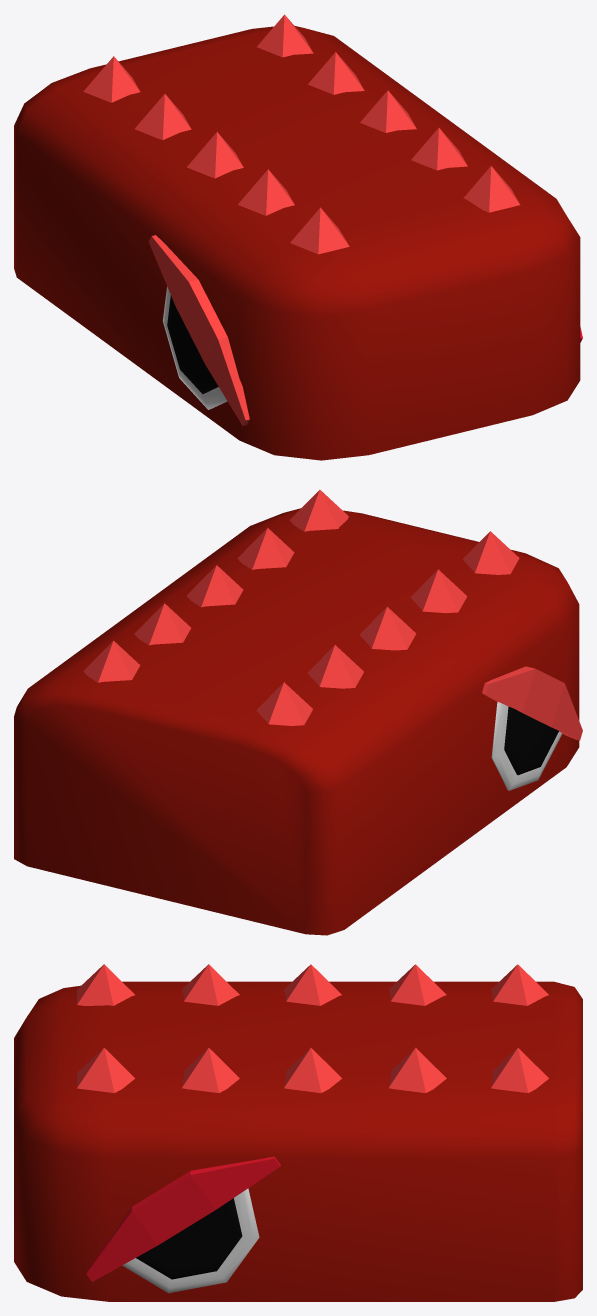
The model's file is UpperHalf.fbx.
3 renders of one model, top to bottom at view 1: azimuth 30°, elevation 25°; view 2: azimuth 150°, elevation 25°; view 3: azimuth 270°, elevation 25°, orthographic.
Parts seen in each view (by area): view 1: Cube.005, Cone.009, Cube.003, Cylinder.004, Cylinder.001; view 2: Cube.005, Cone.009, Cube.003, Cylinder.004, Cylinder.001; view 3: Cube.005, Cone.009, Cube.002, Cylinder.002, Cylinder.003.
Boxes of the visible parts, left/top/right/bottom form: Cube.005: left=14, top=26, right=580, bottom=460; Cone.009: left=83, top=14, right=520, bottom=254; Cube.003: left=148, top=235, right=249, bottom=425; Cylinder.004: left=167, top=295, right=218, bottom=394; Cylinder.001: left=163, top=286, right=227, bottom=409; Cube.005: left=14, top=508, right=579, bottom=935; Cone.009: left=83, top=490, right=519, bottom=725; Cube.003: left=482, top=666, right=582, bottom=740; Cylinder.004: left=504, top=707, right=558, bottom=775; Cylinder.001: left=491, top=702, right=562, bottom=790; Cube.005: left=14, top=981, right=582, bottom=1301; Cone.009: left=77, top=964, right=548, bottom=1093; Cube.002: left=86, top=1156, right=280, bottom=1281; Cylinder.002: left=136, top=1198, right=242, bottom=1279; Cylinder.003: left=122, top=1188, right=259, bottom=1293.
Bounding box in the file's own units: 211 × 126 × 300.
